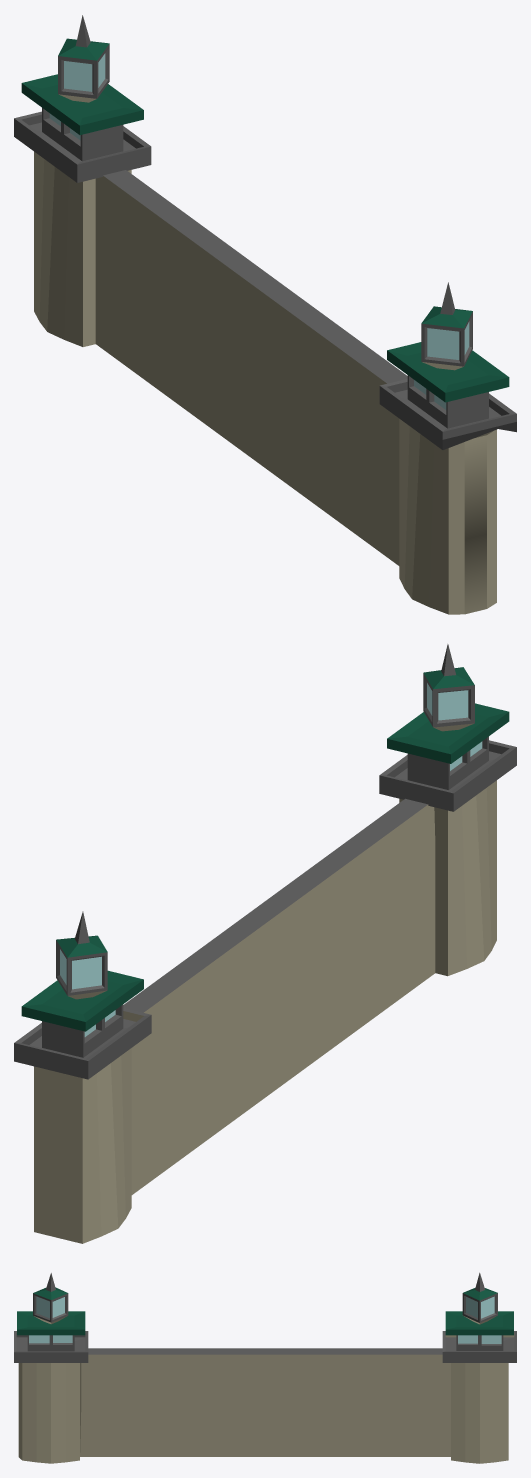
File: wallpart3 1.fbx
3 views of the same model, one above another, from view 1: azimuth 30°, elevation 25°; view 2: azimuth 150°, elevation 25°; view 3: azimuth 270°, elevation 25° (orthographic). The views are drawn at different scales.
Parts seen in each view (by area): view 1: Cube.001; view 2: Cube.001; view 3: Cube.001.
Boxes of the visible parts, box(x1,y1,x2,y2) form: Cube.001: box(14, 15, 516, 614); Cube.001: box(14, 644, 516, 1243); Cube.001: box(14, 1272, 516, 1463).
Size of the model in its own units: 745 by 2960 by 7422.
